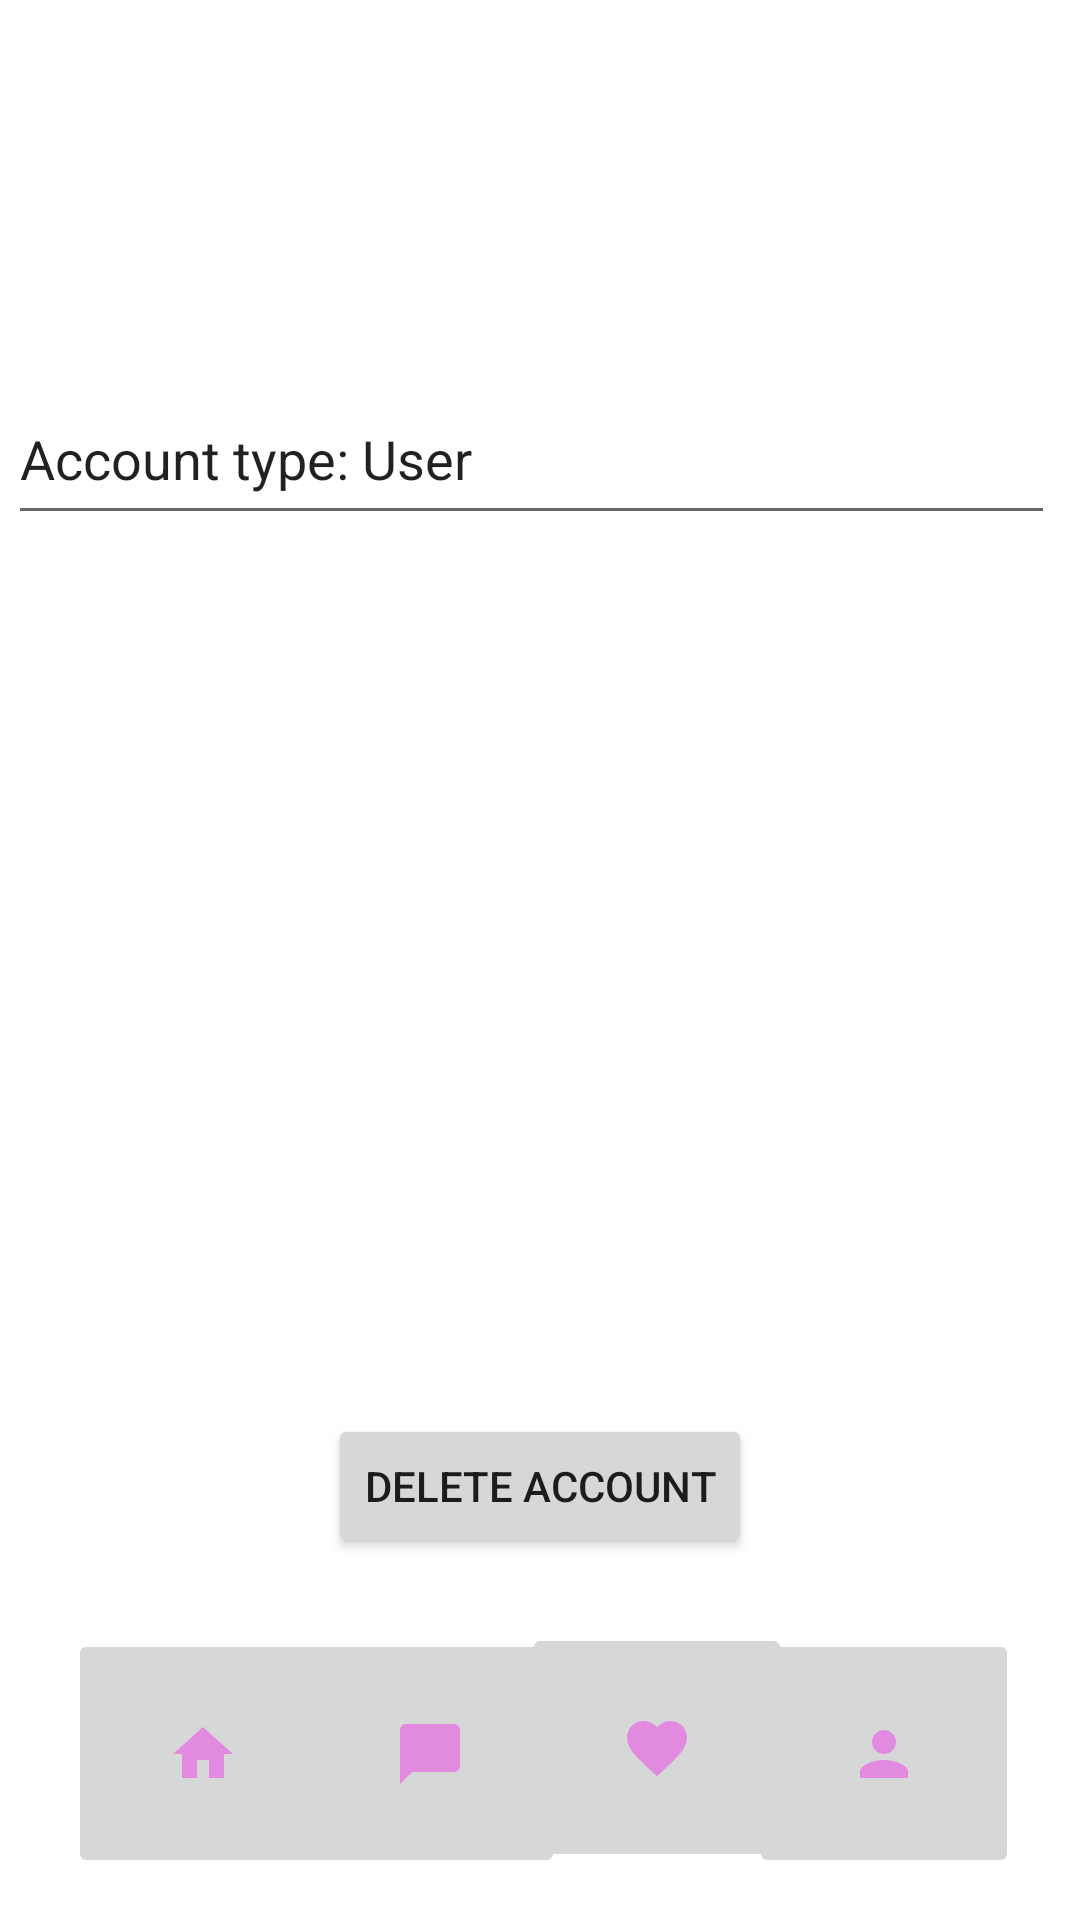

Icons on this 1080×1920 Android screen, each with the point to tap as point (x, y):
favourites: point (657, 1747)
home: point (209, 1753)
person: point (878, 1750)
